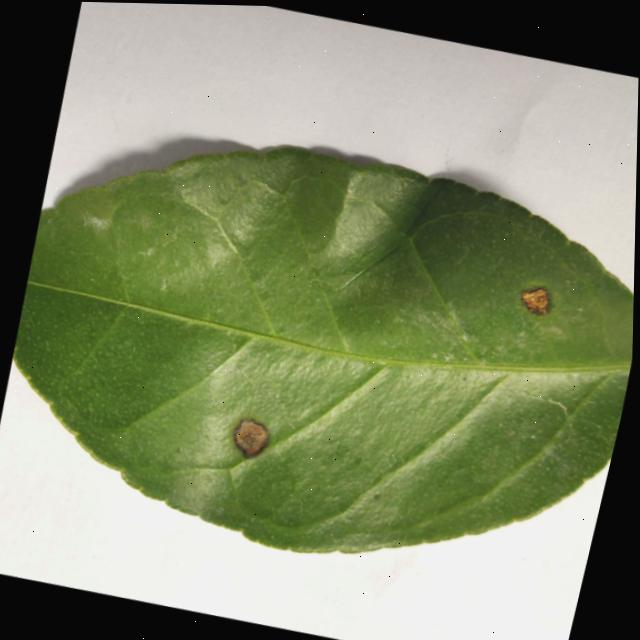antracnose: (12, 147, 634, 552), (233, 419, 268, 457), (521, 288, 548, 313)
